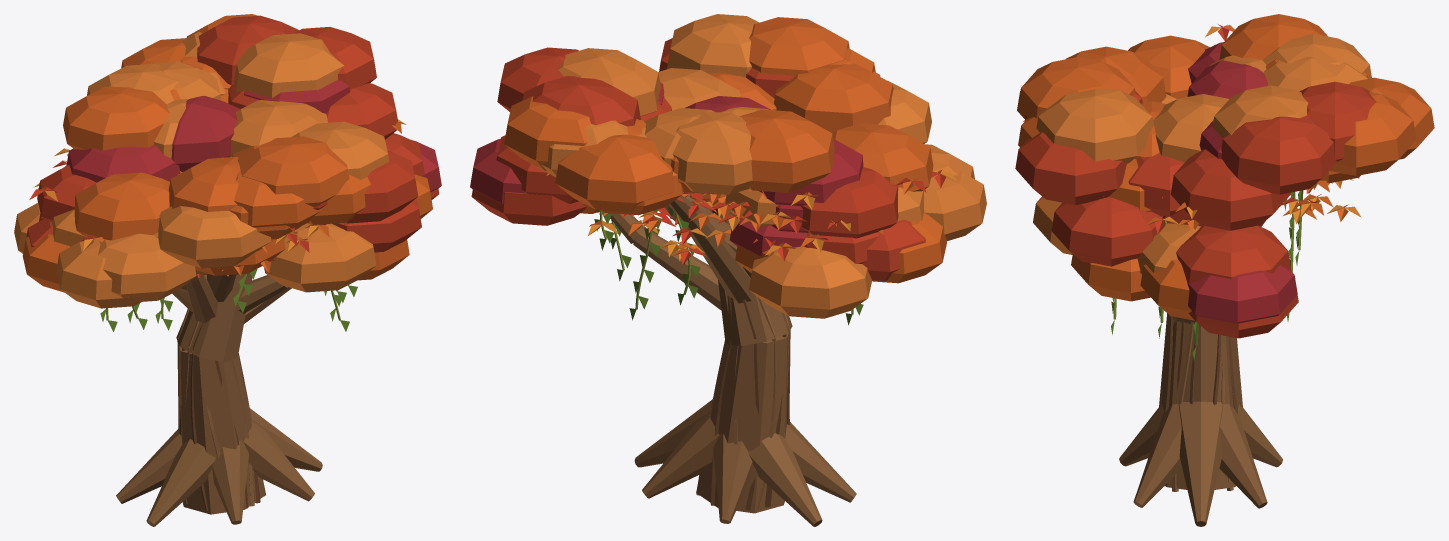
File: Maple.glb
3 views of the same model, side by side, from view 1: azimuth 30°, elevation 25°; view 2: azimuth 150°, elevation 25°; view 3: azimuth 270°, elevation 25° (orthographic). The views are drawn at different scales.
Parts seen in each view (by area): view 1: Maple; view 2: Maple; view 3: Maple.
Boxes of the visible parts, x1,y1,x2,y2 form: Maple: (14,14,441,526); Maple: (470,14,986,526); Maple: (1015,14,1434,526).
Size of the model in its own units: 6.58 by 6.03 by 5.24.
